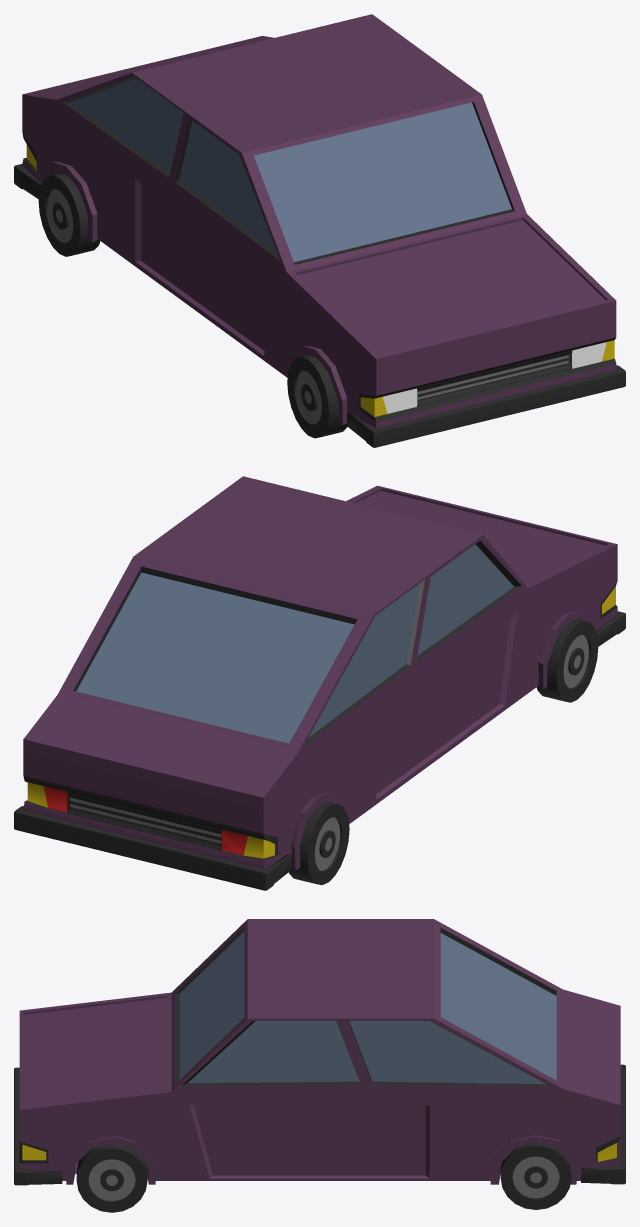
The model's file is Car_Purple.fbx.
The picture shows the model from 3 angles, top to bottom: view 1: azimuth 30°, elevation 25°; view 2: azimuth 150°, elevation 25°; view 3: azimuth 270°, elevation 25°; orthographic projection. The views are drawn at different scales.
Visible parts, largest first — view 1: Car_Purple; view 2: Car_Purple; view 3: Car_Purple.
Boxes of the visible parts, x1,y1,x2,y2 form: Car_Purple: (14,14,625,447); Car_Purple: (14,476,625,890); Car_Purple: (14,919,625,1212).
Size of the model in its own units: 2.22 by 1.75 by 5.16.
